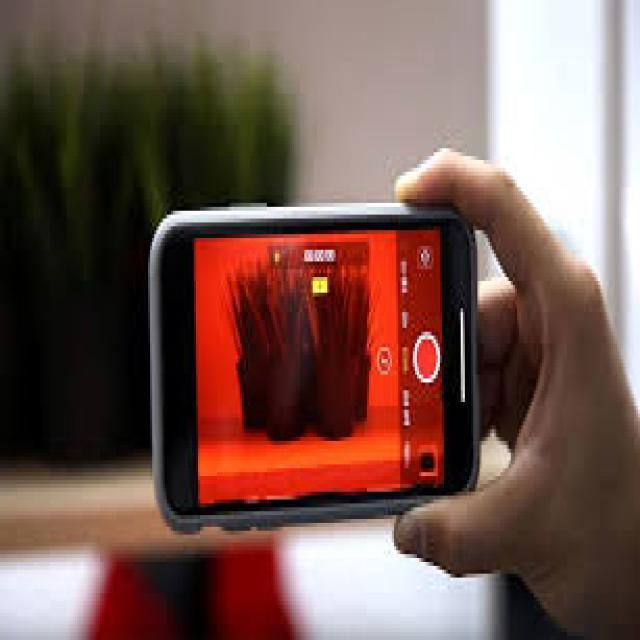Phone: (150, 203, 485, 534)
